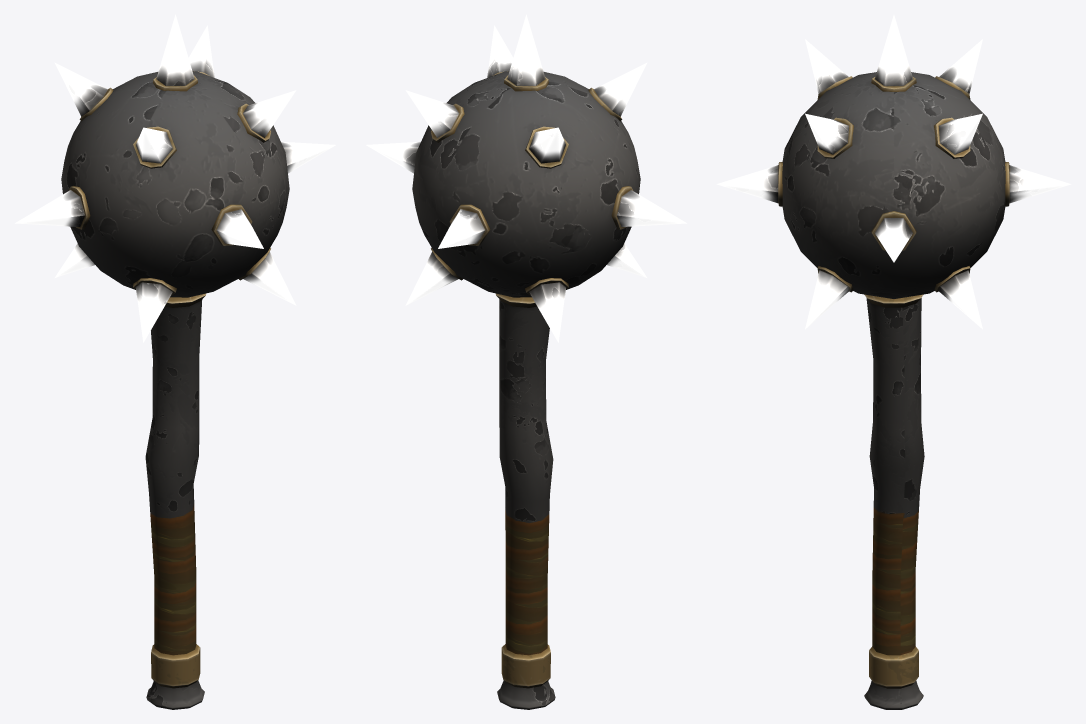
File: Mace1H_Epic.fbx
3 views of the same model, side by side, from view 1: azimuth 30°, elevation 25°; view 2: azimuth 150°, elevation 25°; view 3: azimuth 270°, elevation 25° (orthographic).
Parts seen in each view (by area): view 1: Mace1H_Epic; view 2: Mace1H_Epic; view 3: Mace1H_Epic.
Boxes of the visible parts, box(x1,y1,x2,y2) form: Mace1H_Epic: box(15, 14, 335, 709); Mace1H_Epic: box(366, 14, 686, 709); Mace1H_Epic: box(716, 15, 1071, 709).
Size of the model in its own units: 239 by 486 by 228.
